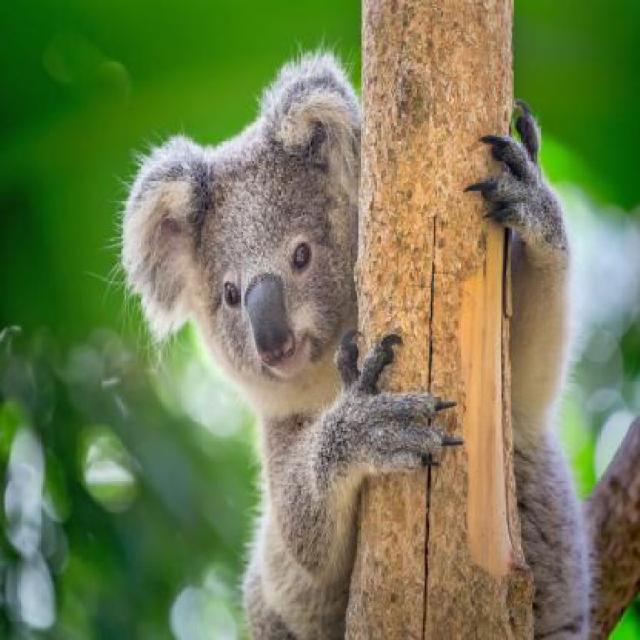Koala: (116, 54, 570, 640)
